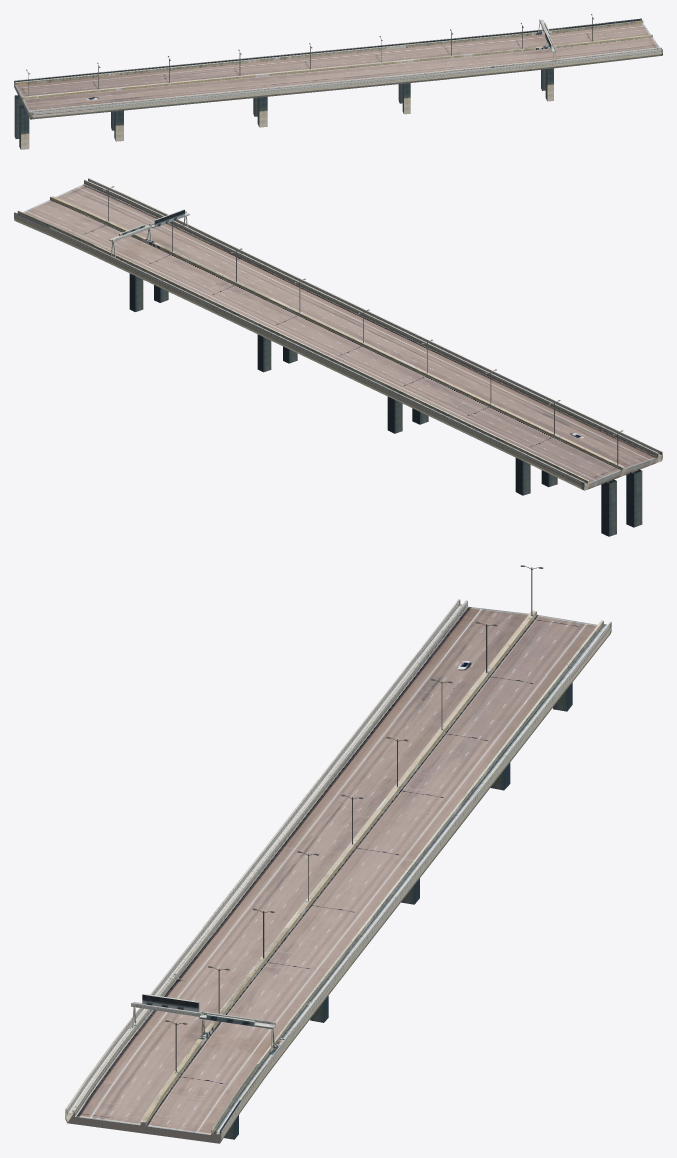
File: roads_context_12.glb
3 views of the same model, one above another, from view 1: azimuth 30°, elevation 25°; view 2: azimuth 150°, elevation 25°; view 3: azimuth 270°, elevation 25° (orthographic). The views are drawn at different scales.
Parts seen in each view (by area): view 1: I102521702707063A0.001; view 2: I102521702707063A0.001; view 3: I102521702707063A0.001.
Part boxes in pixels (x1,y1,x2,y2): I102521702707063A0.001: (14, 14, 662, 149); I102521702707063A0.001: (14, 178, 662, 536); I102521702707063A0.001: (65, 565, 611, 1143).
Size of the model in its own units: 283 by 36.87 by 121.
2 materials, 2 textured.
